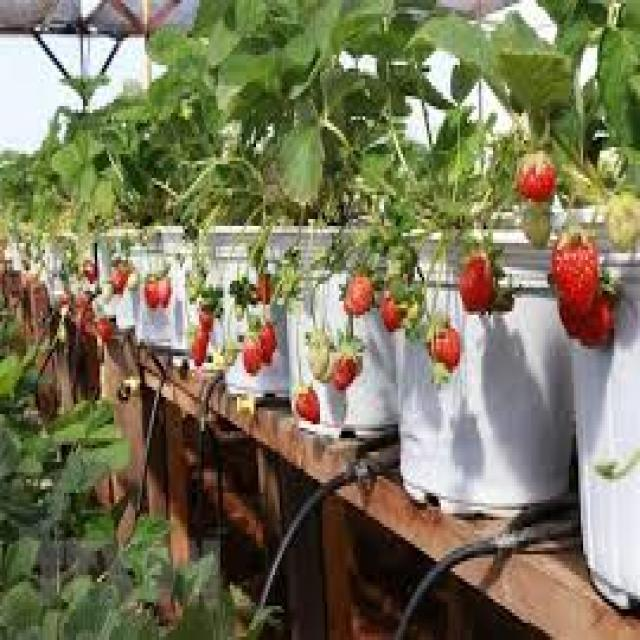Fruta sana: (552, 230, 601, 318), (548, 296, 624, 346), (453, 241, 499, 313), (512, 154, 561, 204), (432, 313, 464, 370), (386, 280, 414, 338), (341, 272, 378, 315), (290, 382, 320, 428), (336, 354, 362, 390), (239, 332, 262, 370), (256, 318, 275, 361), (190, 330, 210, 366), (144, 272, 156, 306), (160, 280, 170, 312)
